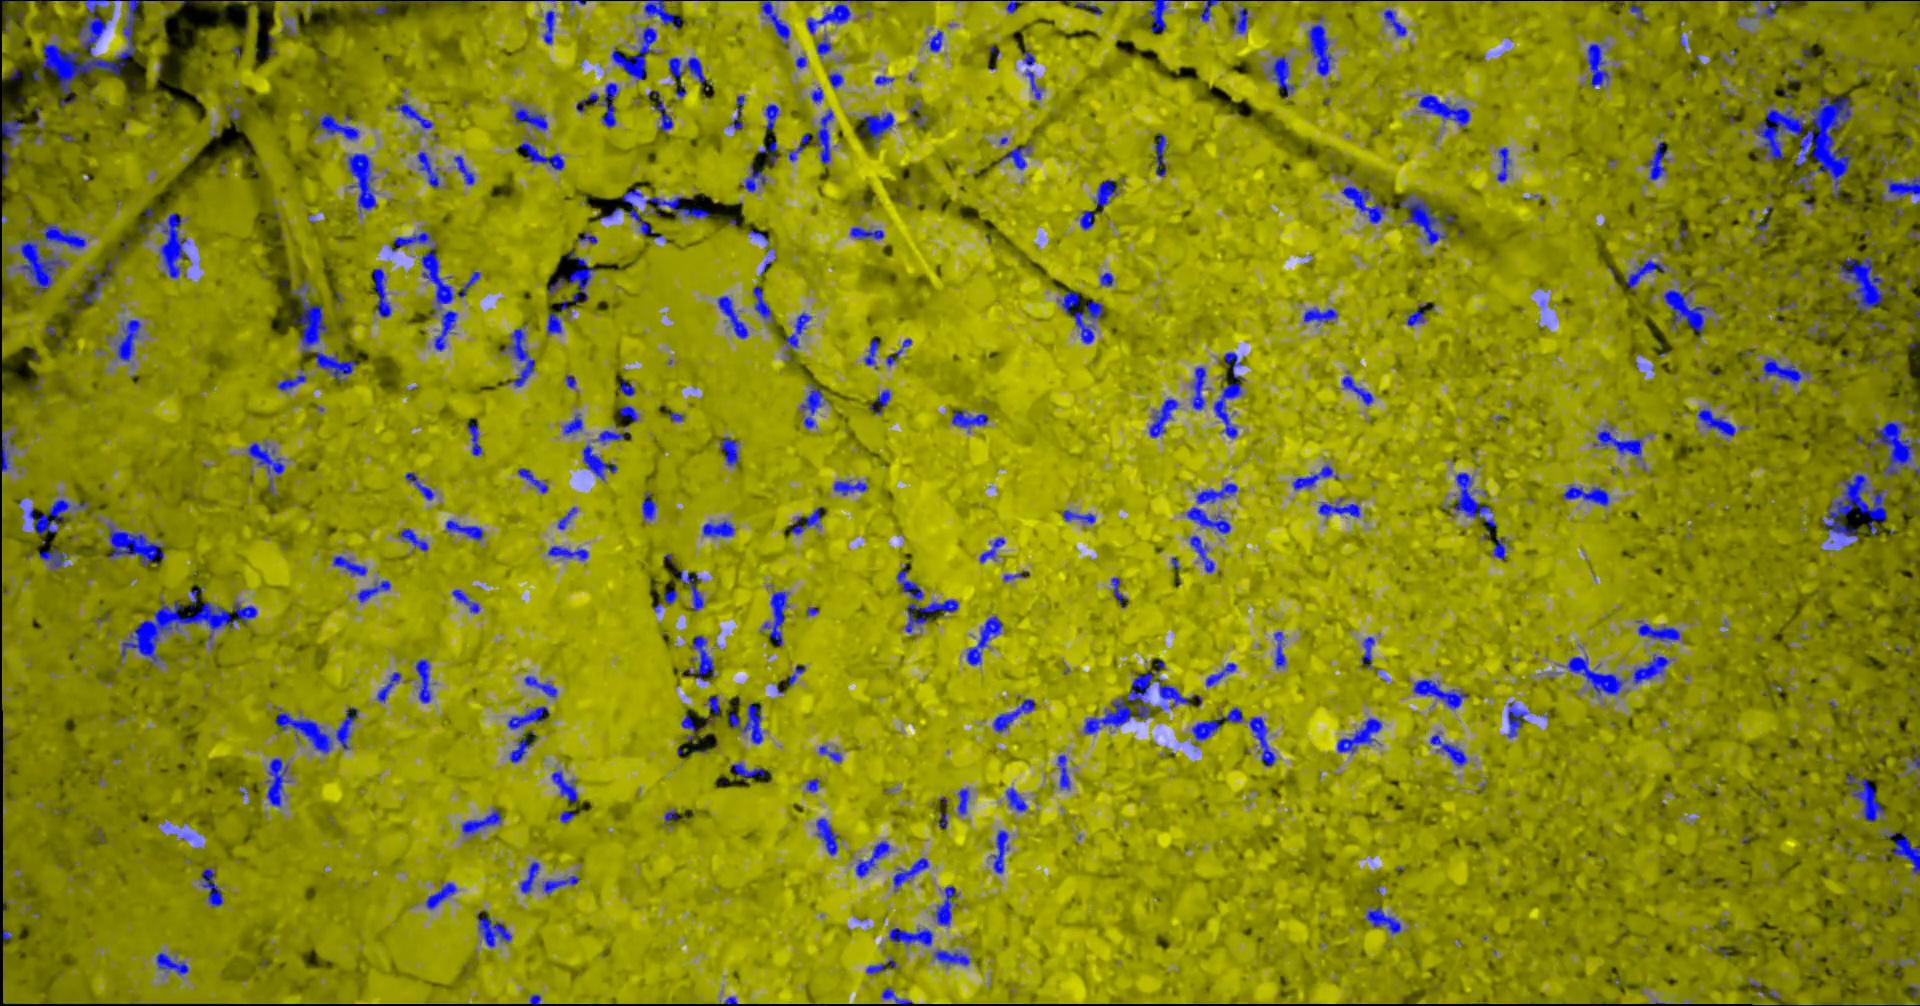ant: (897, 565, 957, 633), (420, 245, 480, 314), (1448, 473, 1496, 539), (1399, 193, 1454, 244), (1213, 352, 1244, 438), (291, 281, 328, 353), (274, 708, 331, 753), (611, 25, 657, 80), (1057, 291, 1103, 343), (152, 212, 189, 278), (1564, 655, 1625, 695), (312, 0, 471, 14), (27, 498, 89, 533), (559, 250, 596, 310), (621, 187, 662, 238), (81, 249, 118, 304), (575, 83, 618, 127), (504, 326, 535, 386), (1663, 290, 1705, 333), (1845, 774, 1883, 821), (966, 615, 1002, 664), (347, 152, 376, 212), (1341, 185, 1385, 224), (1336, 716, 1382, 753), (1191, 708, 1242, 741), (1417, 94, 1469, 126), (1592, 426, 1642, 459), (1883, 831, 1919, 874), (761, 591, 789, 645), (1413, 680, 1467, 708), (644, 196, 709, 218), (806, 0, 850, 33), (668, 57, 711, 90), (728, 702, 762, 743), (992, 699, 1034, 732), (1308, 15, 1331, 75), (1761, 356, 1810, 384), (1248, 716, 1275, 766), (517, 142, 564, 170), (1697, 406, 1743, 434), (759, 0, 789, 44), (582, 445, 617, 480), (855, 840, 889, 876), (476, 911, 510, 948), (717, 295, 747, 338), (1625, 259, 1663, 292), (314, 351, 358, 379), (800, 384, 828, 428), (312, 112, 358, 138), (891, 857, 928, 890), (1148, 398, 1178, 437), (265, 757, 290, 807), (38, 224, 85, 249), (1291, 464, 1338, 489), (1186, 507, 1230, 533), (248, 442, 284, 474), (1429, 734, 1467, 765), (674, 570, 703, 610), (1632, 653, 1669, 683), (643, 0, 681, 29), (813, 109, 833, 164), (461, 808, 502, 835), (688, 635, 712, 680), (1269, 55, 1294, 97), (116, 319, 141, 361), (1562, 484, 1609, 506), (648, 90, 672, 132), (858, 112, 893, 141), (783, 312, 811, 348), (1586, 43, 1609, 86), (396, 102, 433, 128), (433, 310, 457, 351), (1341, 375, 1373, 405), (507, 706, 549, 729), (1366, 906, 1401, 934), (372, 268, 391, 318), (1189, 535, 1214, 572), (335, 706, 357, 749), (789, 506, 822, 533), (390, 231, 434, 251), (1644, 141, 1667, 180), (1636, 620, 1679, 640), (0, 111, 23, 149), (815, 817, 838, 855), (932, 887, 955, 925), (1195, 483, 1237, 503), (1317, 497, 1359, 517), (425, 882, 456, 909), (509, 730, 536, 762), (888, 927, 932, 946), (752, 286, 775, 323), (997, 144, 1030, 169), (513, 105, 547, 130), (1884, 175, 1919, 199), (201, 868, 222, 906), (1147, 0, 1172, 32), (551, 770, 577, 801), (1763, 0, 1811, 17), (155, 951, 188, 976), (417, 151, 438, 188), (1095, 179, 1117, 213), (523, 674, 557, 697), (405, 473, 433, 500), (517, 467, 547, 493), (444, 520, 483, 540), (729, 763, 770, 782), (990, 829, 1008, 873), (376, 671, 400, 702), (356, 580, 390, 602), (1205, 662, 1236, 686), (331, 555, 367, 575), (1507, 701, 1528, 737), (542, 875, 578, 895), (451, 589, 480, 614), (276, 367, 306, 390), (37, 545, 67, 568), (742, 161, 764, 191), (399, 528, 428, 551), (681, 714, 703, 743), (1190, 366, 1205, 409), (415, 659, 430, 702), (466, 417, 483, 455), (547, 545, 588, 560), (979, 537, 1004, 561), (1383, 9, 1406, 36), (951, 410, 988, 427), (933, 949, 970, 965), (519, 861, 538, 893), (789, 132, 809, 161), (453, 155, 474, 184), (832, 479, 867, 495), (0, 431, 14, 471), (1154, 132, 1167, 177), (881, 987, 913, 1005), (719, 436, 738, 465), (869, 389, 890, 414), (1023, 69, 1041, 99), (1110, 577, 1128, 607), (702, 520, 734, 536), (1303, 307, 1337, 323), (1004, 788, 1027, 810), (1057, 754, 1070, 789), (1406, 304, 1426, 326), (1062, 509, 1095, 523), (596, 431, 631, 443), (1272, 631, 1285, 667), (1232, 6, 1248, 33), (757, 140, 776, 163), (557, 506, 577, 528), (863, 338, 877, 368), (641, 492, 657, 520), (1496, 147, 1509, 180), (850, 226, 883, 239), (563, 413, 582, 434), (1361, 636, 1374, 667), (1199, 0, 1217, 22), (1629, 0, 1647, 22), (542, 10, 554, 43), (225, 105, 241, 128), (818, 746, 841, 762), (764, 103, 778, 130), (926, 30, 942, 51), (787, 664, 804, 685), (1492, 537, 1507, 559), (817, 33, 830, 56), (546, 312, 561, 333), (957, 788, 969, 814), (1079, 210, 1095, 229), (618, 405, 637, 420), (703, 695, 719, 714), (618, 380, 635, 396), (0, 150, 10, 177), (547, 276, 563, 293), (886, 348, 902, 366), (1003, 570, 1029, 580), (1004, 0, 1023, 13), (828, 72, 843, 88), (1020, 50, 1034, 65), (810, 86, 823, 103), (559, 810, 575, 823), (577, 232, 597, 243), (865, 963, 885, 973), (1098, 272, 1112, 286), (664, 589, 677, 605), (805, 779, 819, 791), (874, 75, 893, 84), (737, 95, 744, 116), (938, 810, 947, 827), (795, 56, 806, 69), (664, 810, 677, 822), (565, 373, 575, 387), (669, 412, 684, 420), (530, 995, 540, 1005), (1858, 0, 1919, 1)
